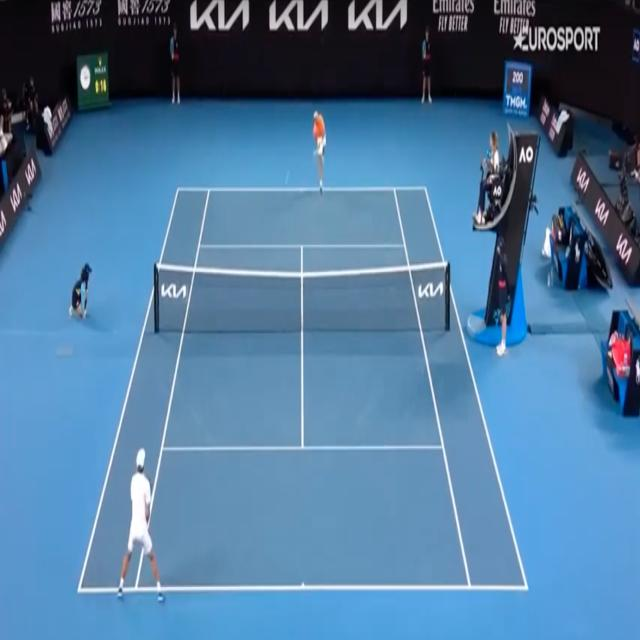ball: (284, 169, 290, 185)
